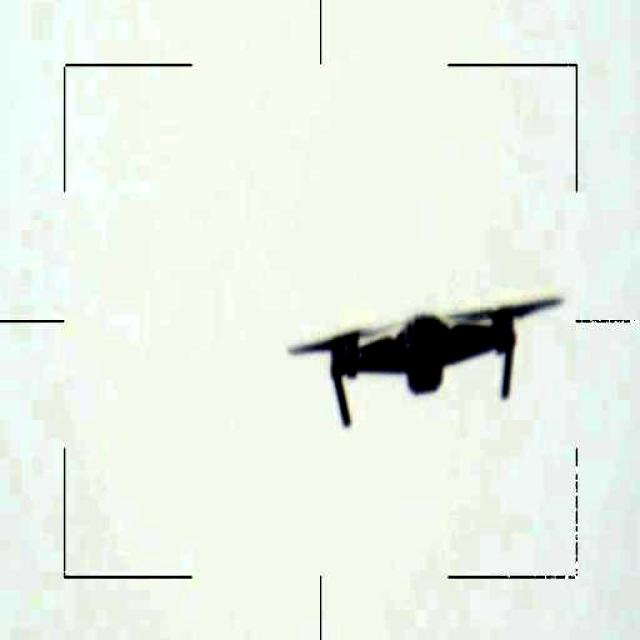bird: (285, 288, 562, 430)
